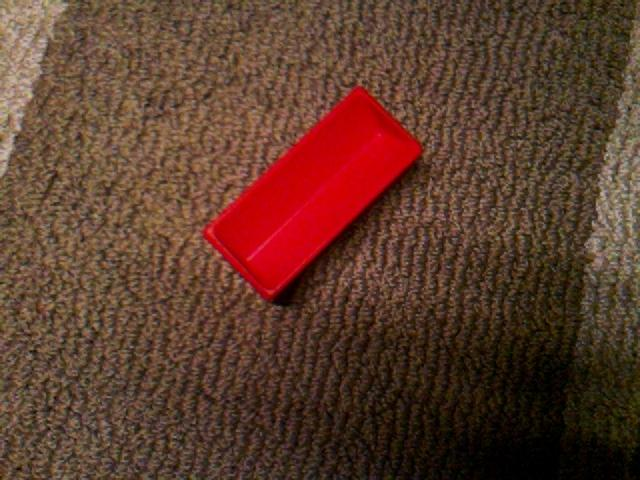red: (202, 85, 424, 303)
